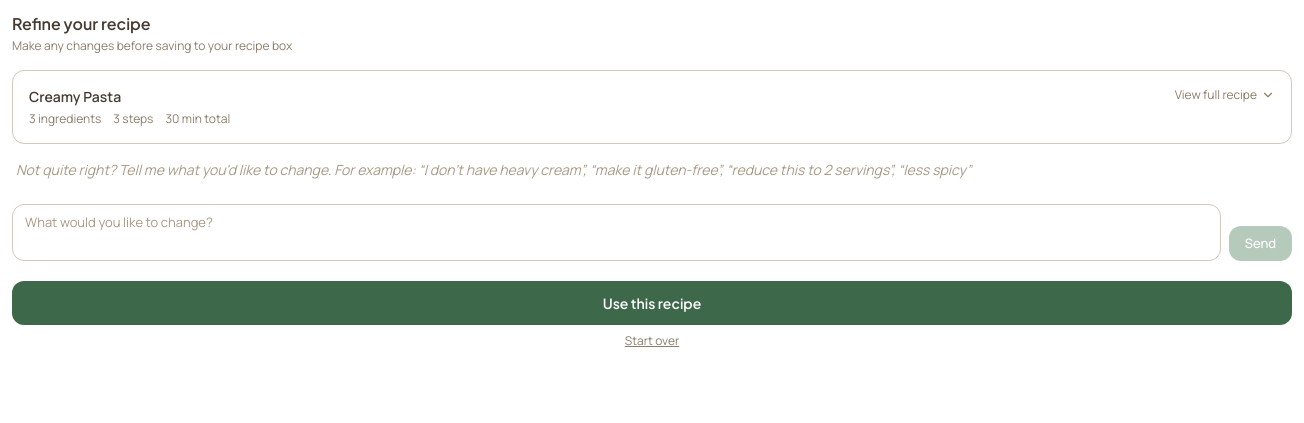
Test: T13 - Input and send button disabled while isLoading › disables input and send button while a request is in flight
Type "no cream" into the text box with placeholder "What would you like to change?" at (616,232), box x1=12 y1=204 x2=1221 y2=261
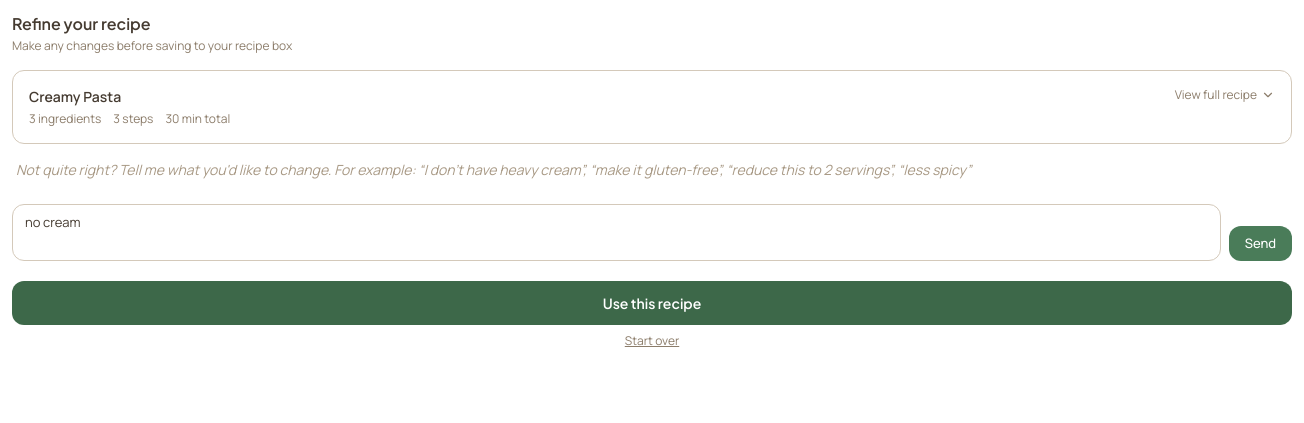
Click the button "Send" at (1260,243), box x1=1229 y1=226 x2=1292 y2=261
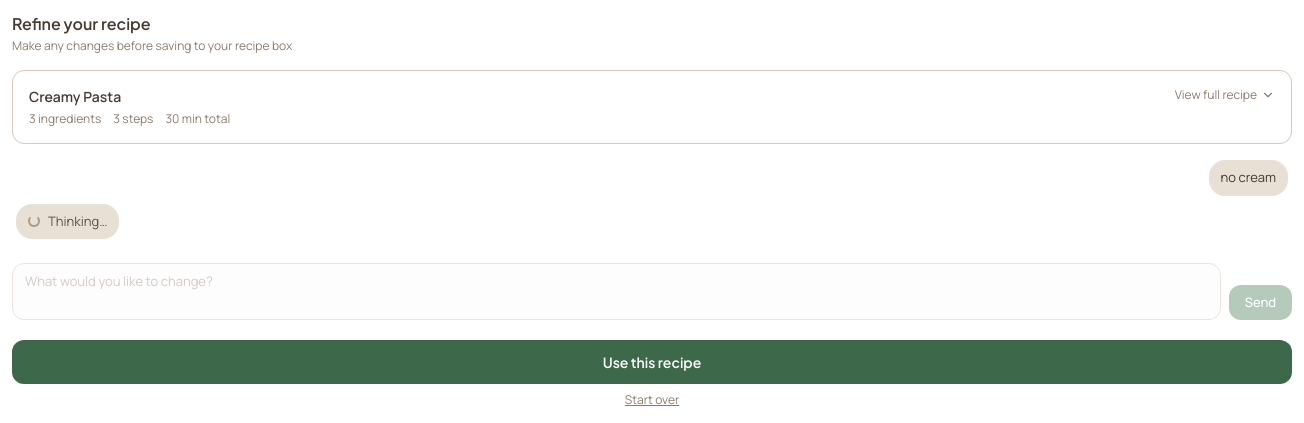
Expected: the text box with placeholder "What would you like to change?" is disabled, x1=12 y1=263 x2=1221 y2=320
Expected: the button "Send" is disabled, x1=1229 y1=284 x2=1292 y2=320
